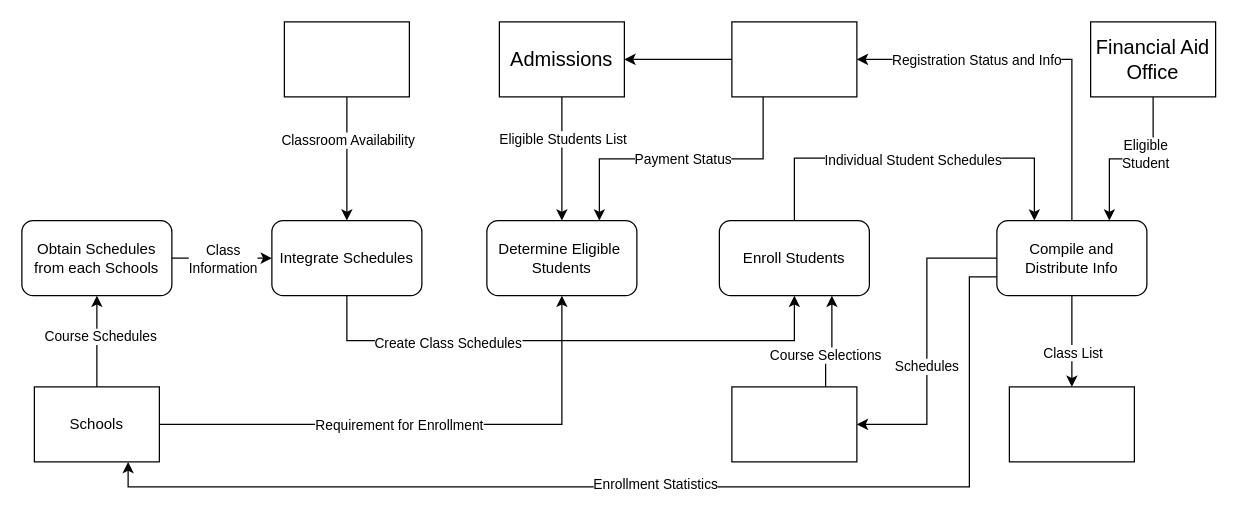
Some shapes in this 1238 by 519 pixel diagram are drawn without their labels. The box of each missing label's shape, as (x1, y1, x2, y2) in pixels:
Accounting: (731, 21, 857, 97)
Facilities: (283, 21, 409, 97)
Faculty: (1008, 386, 1134, 462)
Students: (731, 386, 857, 462)
